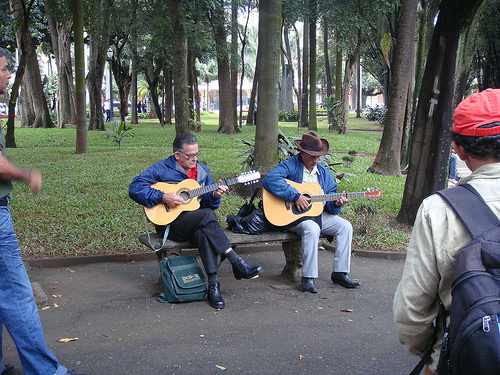guitar: (139, 170, 261, 228), (261, 177, 381, 227)
